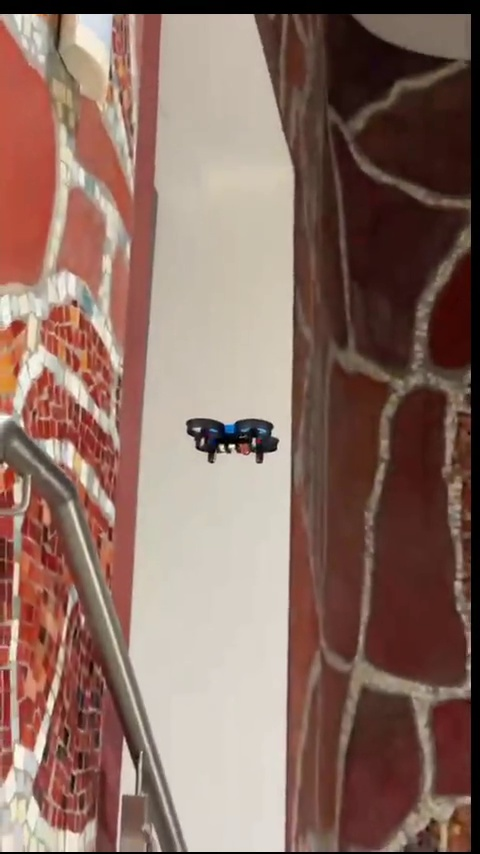drone: (184, 422, 281, 464)
